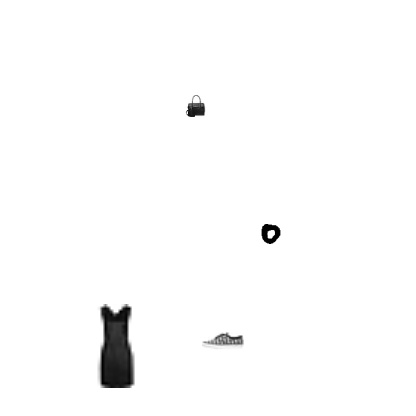0: (256, 219, 284, 247)
Bag: (184, 95, 206, 117)
Dress: (74, 304, 158, 388)
Sneaker: (202, 319, 244, 361)
